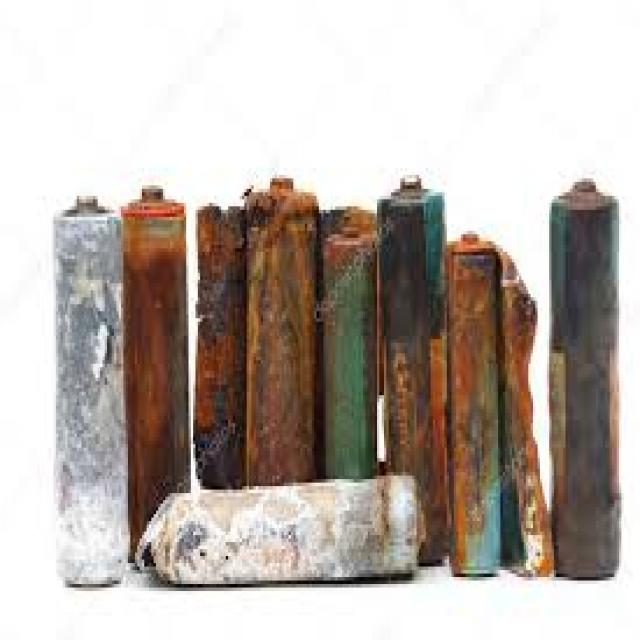non-organic waste: (58, 197, 127, 593), (552, 181, 620, 576), (380, 178, 447, 573), (124, 185, 192, 566), (246, 172, 318, 488), (449, 230, 500, 579)
